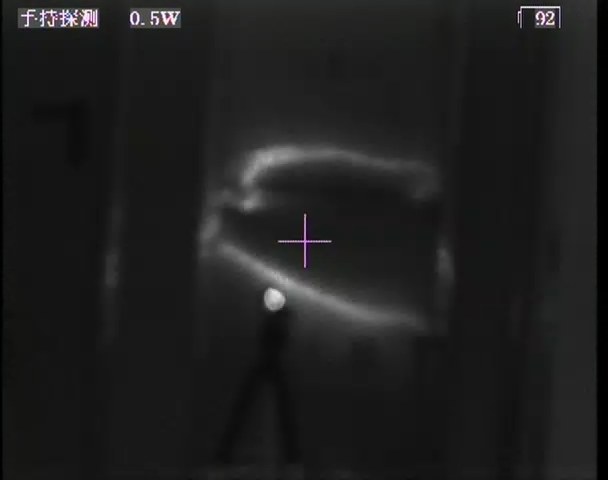my: (262, 285, 289, 309)
